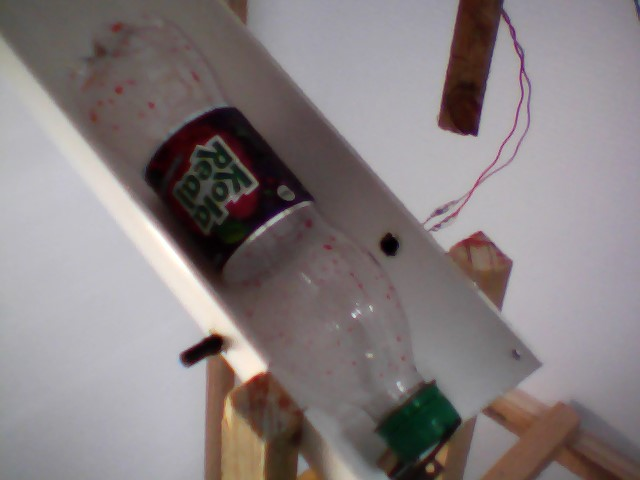plastico: (56, 3, 472, 467)
